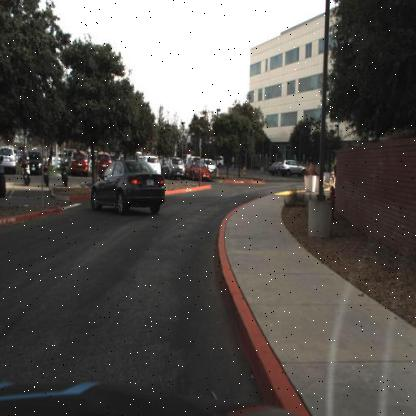car: (90, 152, 166, 217), (183, 157, 211, 184), (162, 154, 187, 182), (22, 146, 45, 176), (67, 148, 90, 178), (280, 156, 309, 179), (1, 140, 17, 176), (144, 151, 160, 174), (202, 152, 216, 174), (214, 152, 226, 170)
